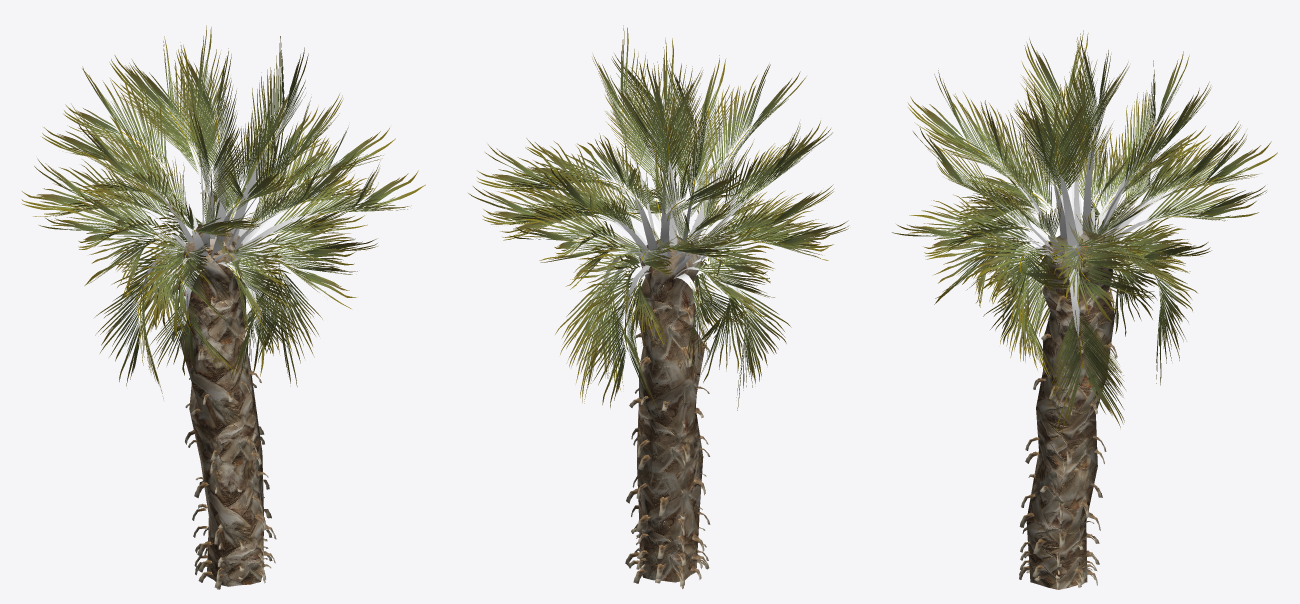
Rendered from palm5.obj.
3 views of the same model, side by side, from view 1: azimuth 30°, elevation 25°; view 2: azimuth 150°, elevation 25°; view 3: azimuth 270°, elevation 25° (orthographic).
Parts seen in each view (by area): view 1: curly palm leaf, palm07, object 2, barkpalm; view 2: curly palm leaf, palm07, object 2, barkpalm; view 3: curly palm leaf, palm07, object 2, barkpalm.
Boxes of the visible parts, bbox=[...] form: curly palm leaf: bbox=[21, 25, 425, 398]; palm07: bbox=[179, 224, 263, 586]; object 2: bbox=[131, 140, 318, 310]; barkpalm: bbox=[171, 280, 276, 589]; curly palm leaf: bbox=[468, 25, 849, 413]; palm07: bbox=[637, 237, 705, 582]; object 2: bbox=[596, 149, 749, 318]; barkpalm: bbox=[625, 286, 710, 588]; curly palm leaf: bbox=[892, 30, 1277, 433]; palm07: bbox=[1026, 228, 1114, 589]; object 2: bbox=[993, 142, 1172, 337]; barkpalm: bbox=[1019, 287, 1119, 589].
Size of the model in its own units: 149 by 215 by 143.
Materials: 4 (3 with a texture image).
